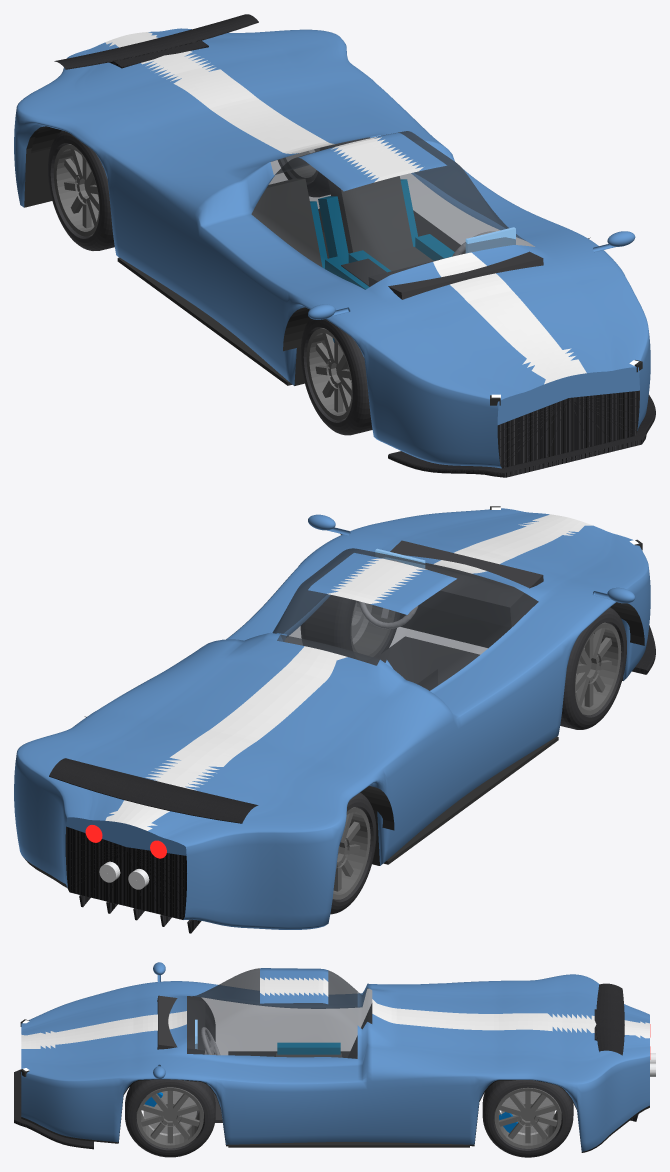
The model's file is ford-gt.glb.
The picture shows the model from 3 angles, top to bottom: view 1: azimuth 30°, elevation 25°; view 2: azimuth 150°, elevation 25°; view 3: azimuth 270°, elevation 25°; orthographic projection. The views are drawn at different scales.
Parts seen in each view (by area): view 1: Body_PrimaryPaint, Glass_Windows, Body_SecondaryPaint, Carbon_Exterior, Interior_Seats, WheelWells, Interior_SeatBolsters, Tire_FR, Rim_FR, Rim_RR, Tire_RR, Interior_Dashboard (+3 smaller); view 2: Body_PrimaryPaint, Glass_Windows, Body_SecondaryPaint, Carbon_Exterior, Interior_Dashboard, WheelWells, Rim_FR, Underbody, Tire_FR, Rim_RR, Tire_FL, Interior_Tub (+4 smaller); view 3: Body_PrimaryPaint, Glass_Windows, Body_SecondaryPaint, Carbon_Exterior, Tire_FL, Tire_RL, Rim_FL, Rim_RL, Interior_Dashboard, WheelWells, Interior_SeatBolsters, Underbody (+5 smaller).
Part boxes in pixels (box(x1,y1,x2,y2)): Body_PrimaryPaint: box(14, 28, 650, 468); Glass_Windows: box(251, 131, 534, 289); Body_SecondaryPaint: box(105, 32, 586, 384); Carbon_Exterior: box(54, 14, 655, 477); Interior_Seats: box(251, 176, 433, 270); WheelWells: box(31, 126, 590, 385); Interior_SeatBolsters: box(310, 179, 454, 289); Tire_FR: box(300, 318, 372, 435); Rim_FR: box(306, 328, 352, 420); Rim_RR: box(53, 144, 99, 236); Tire_RR: box(48, 130, 114, 250); Interior_Dashboard: box(368, 251, 543, 299); Body_PrimaryPaint: box(14, 508, 650, 929); Glass_Windows: box(272, 548, 538, 690); Body_SecondaryPaint: box(105, 514, 592, 830); Carbon_Exterior: box(49, 625, 655, 933); Interior_Dashboard: box(390, 540, 543, 627); WheelWells: box(84, 533, 644, 864); Rim_FR: box(575, 622, 621, 715); Underbody: box(23, 605, 623, 890); Tire_FR: box(560, 607, 626, 729); Rim_RR: box(332, 807, 370, 899); Tire_FL: box(300, 595, 400, 657); Interior_Tub: box(376, 636, 479, 685); Body_PrimaryPaint: box(21, 962, 649, 1151); Glass_Windows: box(187, 968, 372, 1058); Body_SecondaryPaint: box(21, 977, 649, 1048); Carbon_Exterior: box(14, 983, 638, 1149); Tire_FL: box(125, 1079, 215, 1157); Tire_RL: box(482, 1080, 573, 1157); Rim_FL: box(136, 1087, 203, 1148); Rim_RL: box(494, 1087, 561, 1148); Interior_Dashboard: box(157, 995, 205, 1054); WheelWells: box(228, 1051, 469, 1147); Interior_SeatBolsters: box(277, 1042, 340, 1054); Underbody: box(21, 1079, 649, 1152).
Size of the model in its own units: 2.03 by 1.06 by 4.86.
17 materials, 2 textured.
